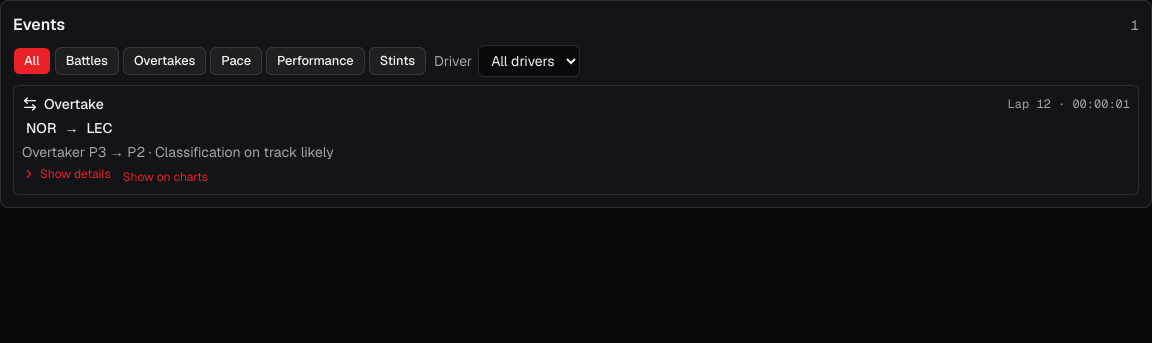
EventFeed › driver buttons select the driver
Click the button with aria-label "Select driver LEC" at (99, 128), box [82,118,116,138]
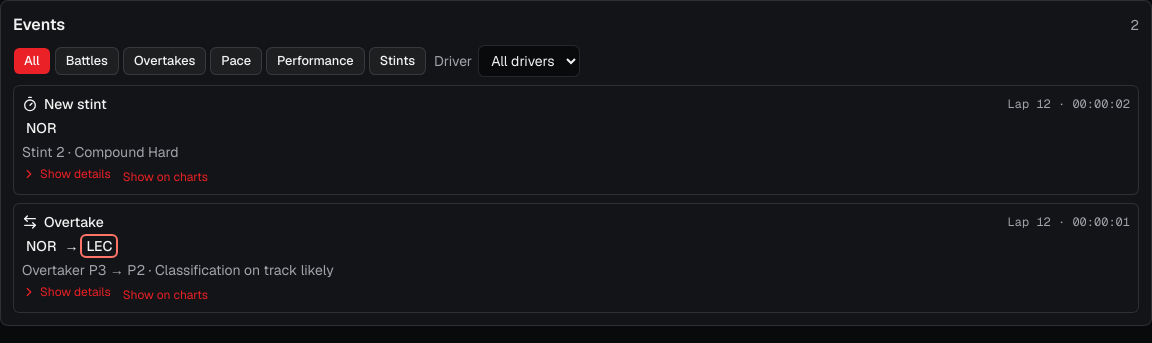
Expected: the number of buttons named "Select driver LEC" is 1, [82,236,116,256]
